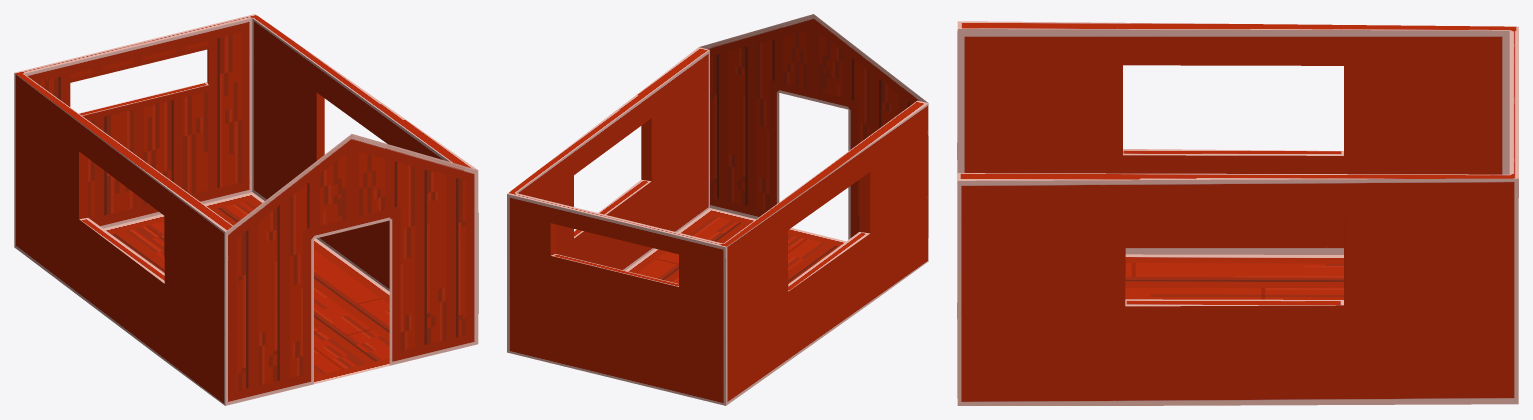
File: barn_unity.fbx
The picture shows the model from 3 angles, left to right: view 1: azimuth 30°, elevation 25°; view 2: azimuth 150°, elevation 25°; view 3: azimuth 270°, elevation 25°; orthographic projection. The views are drawn at different scales.
Visible parts, largest first — view 1: Barn_Unity; view 2: Barn_Unity; view 3: Barn_Unity.
Boxes of the visible parts, x1,y1,x2,y2 form: Barn_Unity: (14, 14, 478, 405); Barn_Unity: (507, 14, 928, 405); Barn_Unity: (957, 21, 1518, 405).
Bounding box in the file's own units: 407 × 373 × 605.
